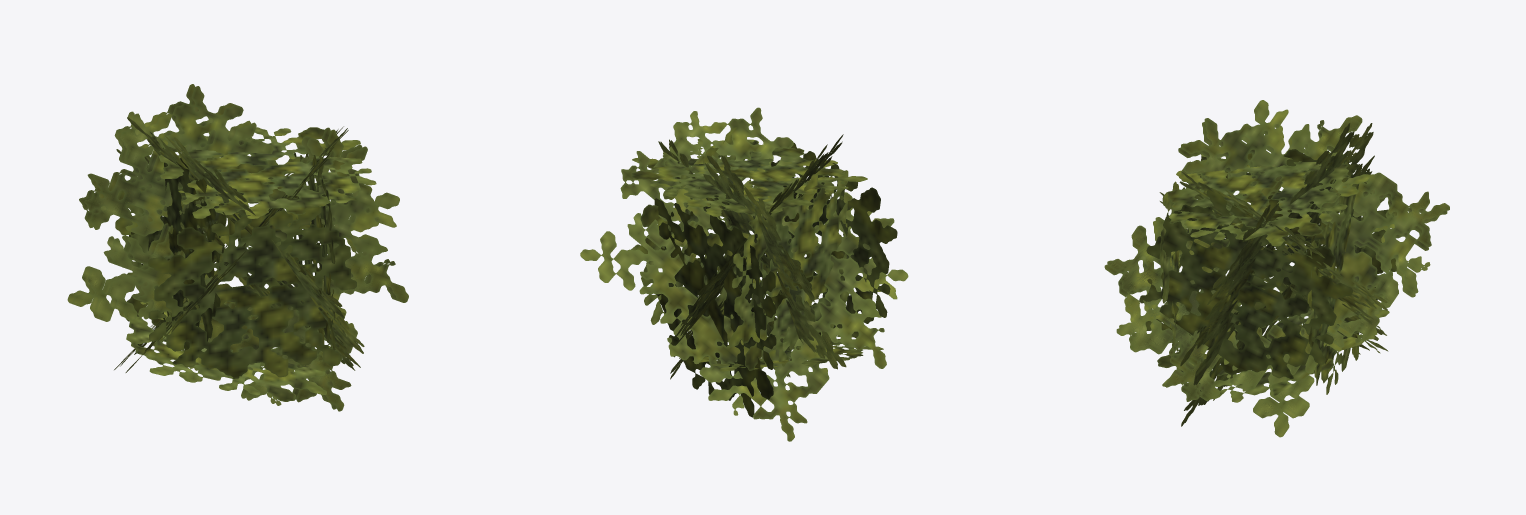
The model's file is ash_leaves_yellowish.obj.
3 views of the same model, side by side, from view 1: azimuth 30°, elevation 25°; view 2: azimuth 150°, elevation 25°; view 3: azimuth 270°, elevation 25° (orthographic). The views are drawn at different scales.
Parts seen in each view (by area): view 1: east, south, top, west, bottom, north; view 2: west, north, east, south, top, bottom; view 3: south, east, top, west, north, bottom.
Part boxes in pixels (<box>): east: <box>67,84,408,411</box>; south: <box>116,117,364,378</box>; top: <box>158,127,376,218</box>; west: <box>114,126,348,372</box>; bottom: <box>125,301,330,401</box>; north: <box>115,155,303,346</box>; west: <box>580,107,908,441</box>; north: <box>654,198,776,417</box>; east: <box>631,127,846,377</box>; south: <box>670,134,897,379</box>; top: <box>631,138,867,216</box>; bottom: <box>692,334,883,371</box>; south: <box>1104,100,1449,437</box>; east: <box>1139,123,1374,426</box>; top: <box>1167,151,1370,246</box>; west: <box>1159,149,1396,354</box>; north: <box>1307,184,1371,394</box>; bottom: <box>1157,286,1389,402</box>.
Size of the model in its own units: 2.27 by 1.98 by 2.25.
